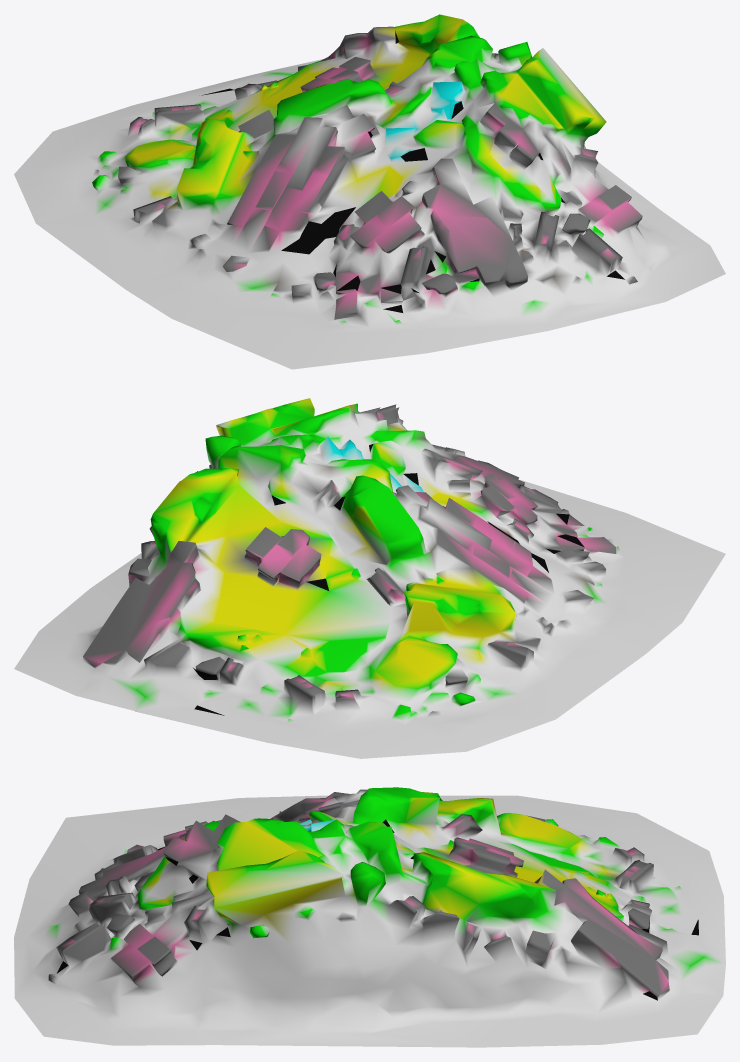
The model's file is BgMD_Pile_01.fbx.
3 views of the same model, one above another, from view 1: azimuth 30°, elevation 25°; view 2: azimuth 150°, elevation 25°; view 3: azimuth 270°, elevation 25° (orthographic). The views are drawn at different scales.
Visible parts, largest first — view 1: pile_01_0606; view 2: pile_01_0606; view 3: pile_01_0606.
Part boxes in pixels (left/top/right/bottom): pile_01_0606: left=14, top=14, right=725, bottom=369; pile_01_0606: left=14, top=398, right=725, bottom=758; pile_01_0606: left=14, top=787, right=725, bottom=1047.
Size of the model in its own units: 647 by 182 by 773.
